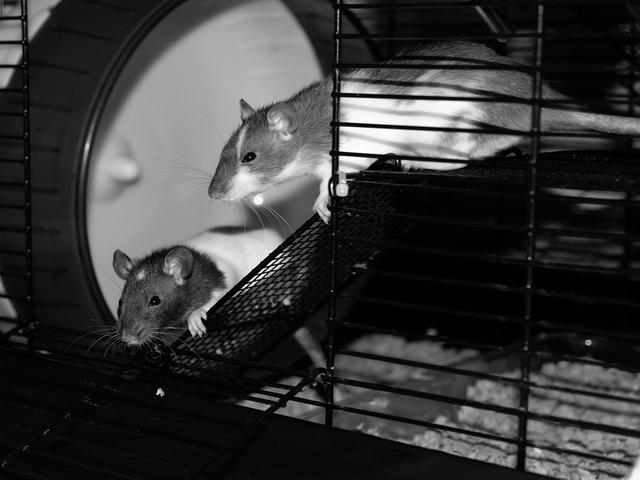mouse: (181, 39, 616, 258), (90, 196, 296, 399)
